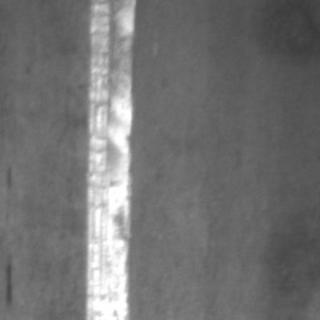scratches: (77, 0, 137, 316)
